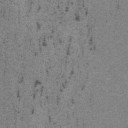oxide scale of temperature system: (12, 67, 85, 124), (57, 0, 96, 51), (34, 22, 72, 57), (36, 4, 42, 12), (115, 3, 120, 10)
